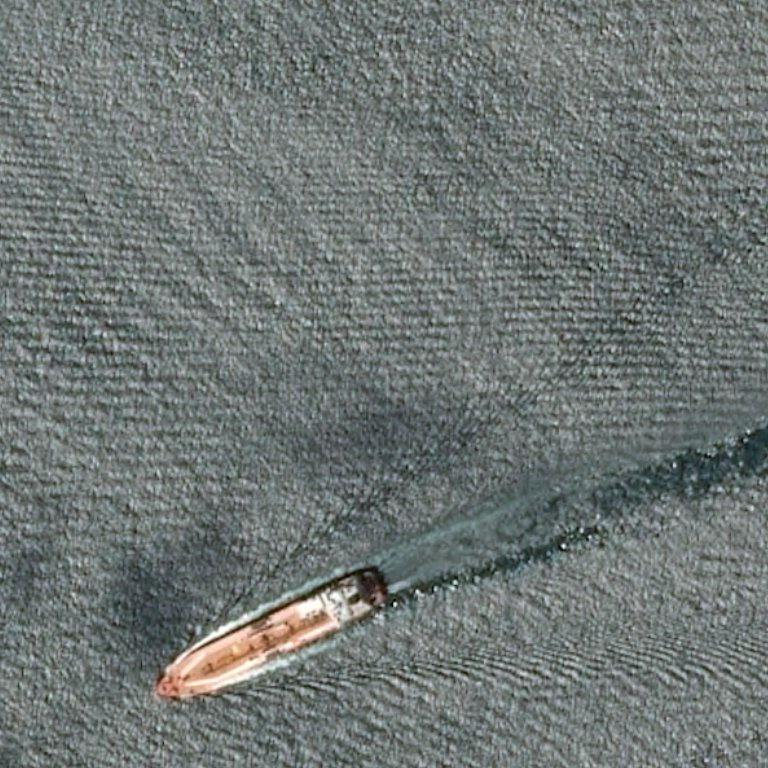ship: (154, 600, 392, 665), (156, 680, 173, 698), (365, 562, 380, 575), (381, 592, 389, 606)
